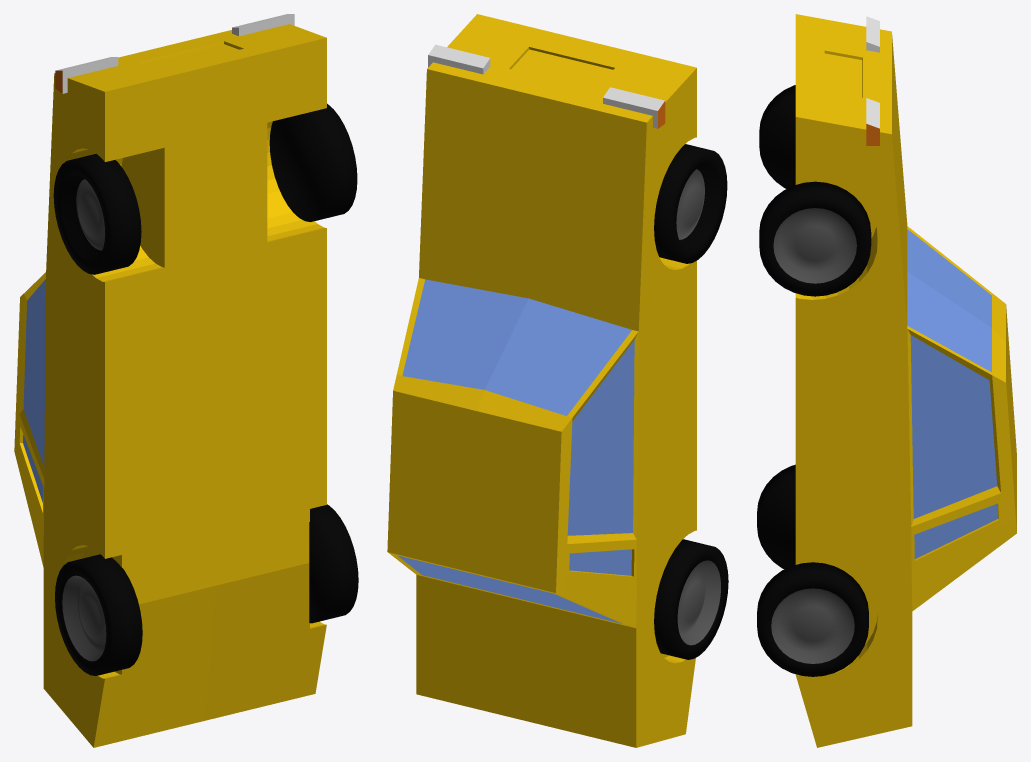
Rendered from Car14.fbx.
3 renders of one model, left to right at view 1: azimuth 30°, elevation 25°; view 2: azimuth 150°, elevation 25°; view 3: azimuth 270°, elevation 25°, orthographic. The views are drawn at different scales.
Parts seen in each view (by area): view 1: Cube.220; view 2: Cube.220; view 3: Cube.220.
Part boxes in pixels (x1,y1,x2,y2): Cube.220: (14,14,358,747); Cube.220: (387,14,728,747); Cube.220: (757,14,1016,747).
Size of the model in its own units: 719 by 1865 by 696.
